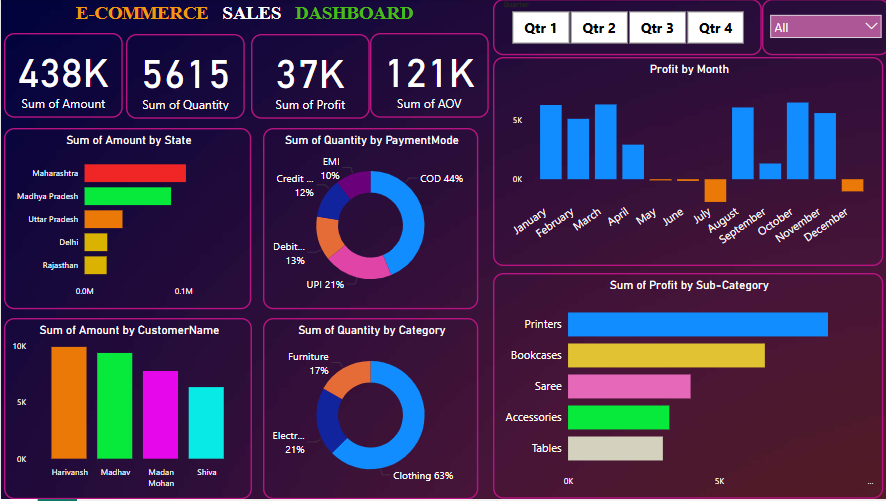

This screenshot's page, from the dashboard's own definition file:
{"tool":"powerbi","page":{"name":"Page 1","canvas":[1280,720],"ordinal":0},"visuals":[{"type":"textbox","box":[17.3,0,666.7,49],"z":0},{"type":"columnChart","title":" Profit by Month","fields":{"Y":["Details.Profit"],"Category":["Orders.Order Date.Variation.Date Hierarchy.Month"]},"box":[708.5,83.5,561.6,301],"z":1000},{"type":"barChart","fields":{"Category":["Details.Sub-Category"],"Y":["Details.Profit"]},"box":[708.5,394.6,561.6,325.4],"z":2000},{"type":"donutChart","fields":{"Category":["Details.Category"],"Y":["Details.Quantity"]},"box":[377.3,459.4,309.6,260.6],"z":3000},{"type":"donutChart","fields":{"Category":["Details.PaymentMode"],"Y":["Details.Quantity"]},"box":[377.3,185.8,309.6,260.6],"z":4000},{"type":"card","fields":{"Values":["Details.Amount"]},"box":[4.3,49,171.4,122.4],"z":5000},{"type":"barChart","fields":{"Category":["Orders.State"],"Y":["Details.Amount"]},"box":[4.3,185.8,355.7,260.6],"z":6000},{"type":"columnChart","fields":{"Category":["Orders.CustomerName"],"Y":["Details.Amount"]},"box":[4.3,459.4,357.1,260.6],"z":7000},{"type":"slicer","fields":{"Values":["Orders.Order Date.Variation.Date Hierarchy.Quarter"]},"box":[708.5,0,387.4,80.6],"z":8000},{"type":"slicer","fields":{"Values":["Orders.State"]},"box":[1095.8,0,184.3,80.6],"z":9000},{"type":"card","fields":{"Values":["Details.Quantity"]},"box":[180,50.4,171.4,122.4],"z":10000},{"type":"card","fields":{"Values":["Details.Profit"]},"box":[360,50.4,171.4,122.4],"z":11000},{"type":"card","fields":{"Values":["Details.AOV"]},"box":[531.4,49,171.4,122.4],"z":12000}]}

Visuals, with their boxes in screenshot pixels (x1, y1, x2, y2), scaled from the page's 1280x720 canvas onto the 886x501 screenshot:
textbox: x1=12, y1=0, x2=473, y2=34
" Profit by Month" columnChart: x1=490, y1=58, x2=879, y2=268
barChart - Details.Sub-Category x Details.Profit: x1=490, y1=275, x2=879, y2=500
donutChart - Details.Category x Details.Quantity: x1=261, y1=320, x2=475, y2=500
donutChart - Details.PaymentMode x Details.Quantity: x1=261, y1=129, x2=475, y2=311
card - Details.Amount: x1=3, y1=34, x2=122, y2=119
barChart - Orders.State x Details.Amount: x1=3, y1=129, x2=249, y2=311
columnChart - Orders.CustomerName x Details.Amount: x1=3, y1=320, x2=250, y2=500
slicer - Orders.Order Date.Variation.Date Hierarchy.Quarter: x1=490, y1=0, x2=759, y2=56
slicer - Orders.State: x1=758, y1=0, x2=885, y2=56
card - Details.Quantity: x1=125, y1=35, x2=243, y2=120
card - Details.Profit: x1=249, y1=35, x2=368, y2=120
card - Details.AOV: x1=368, y1=34, x2=486, y2=119
